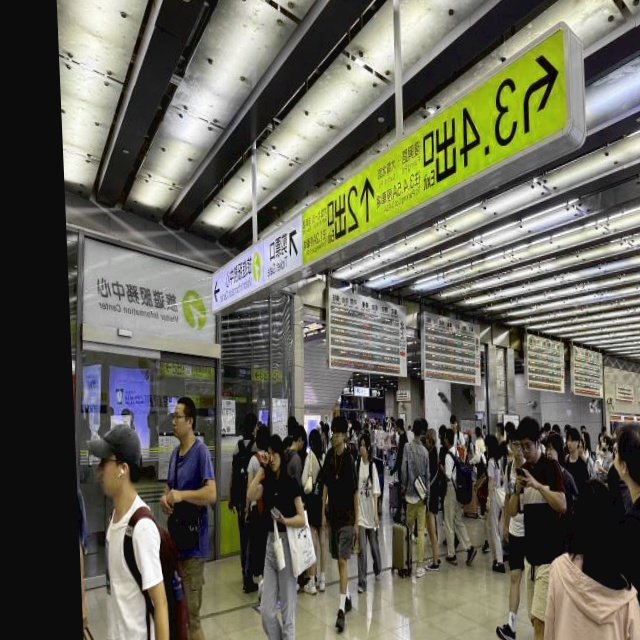Sin_Casco_Mascarrilla: (95, 420, 144, 492), (171, 396, 197, 443), (267, 434, 285, 474), (332, 415, 349, 445), (243, 412, 258, 435), (359, 433, 371, 459), (410, 418, 424, 439), (443, 428, 455, 448)
